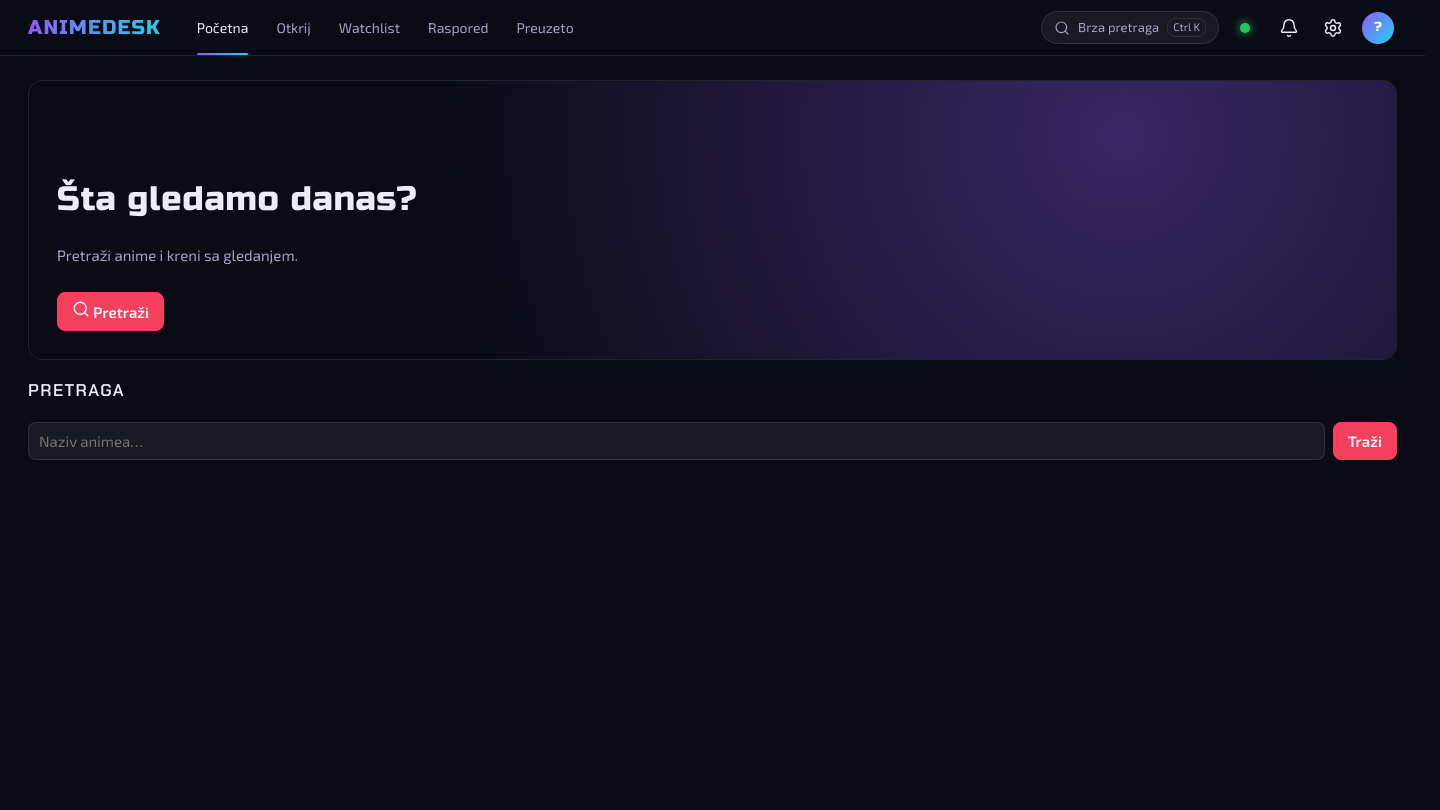
Test case: App command palette › the top bar button opens the palette
Expected: the button named "Podešavanja" is shown, [1315,10,1351,46]
Click the button "Brza pretraga Ctrl K": click(1130, 28) [1041,11,1219,44]
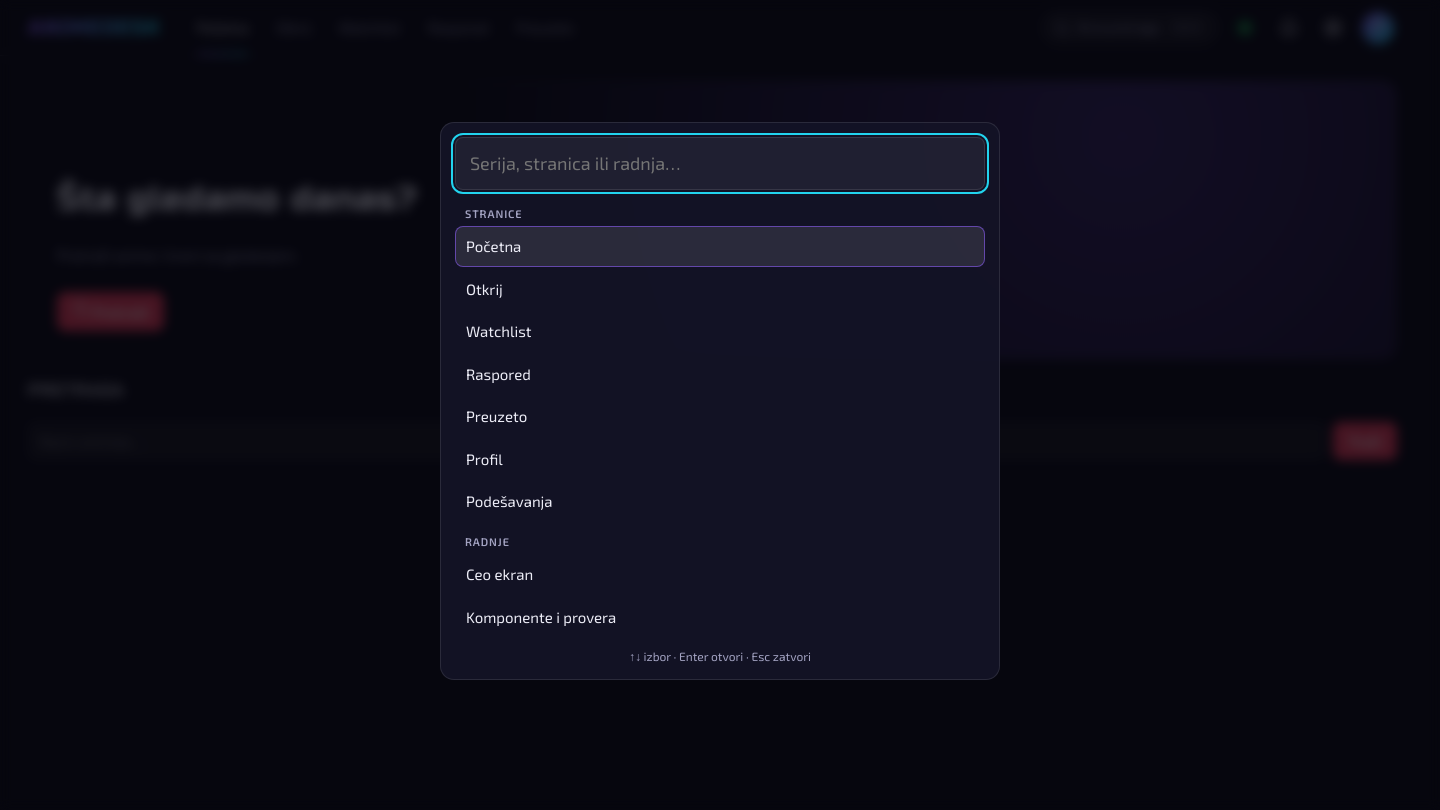
Now the dialog named "Brza pretraga" is shown, box [440,122,1000,680]
